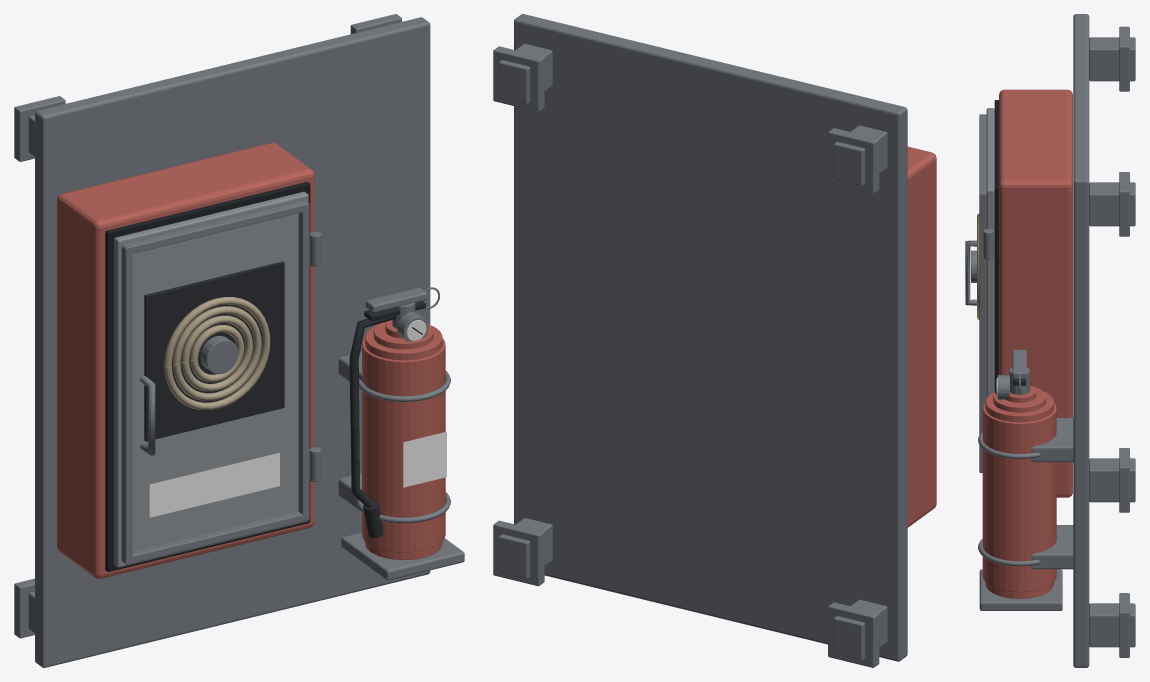
The model's file is BP_WallSafety_R5.fbx.
3 renders of one model, left to right at view 1: azimuth 30°, elevation 25°; view 2: azimuth 150°, elevation 25°; view 3: azimuth 270°, elevation 25°, orthographic. The views are drawn at different scales.
Visible parts, largest first — view 1: BP_WallSafety_R5; view 2: BP_WallSafety_R5; view 3: BP_WallSafety_R5.
Boxes of the visible parts, x1,y1,x2,y2 form: BP_WallSafety_R5: (14,14,464,667); BP_WallSafety_R5: (493,14,936,667); BP_WallSafety_R5: (965,14,1135,667).
Bounding box in the file's own units: 134 × 182 × 57.47.
